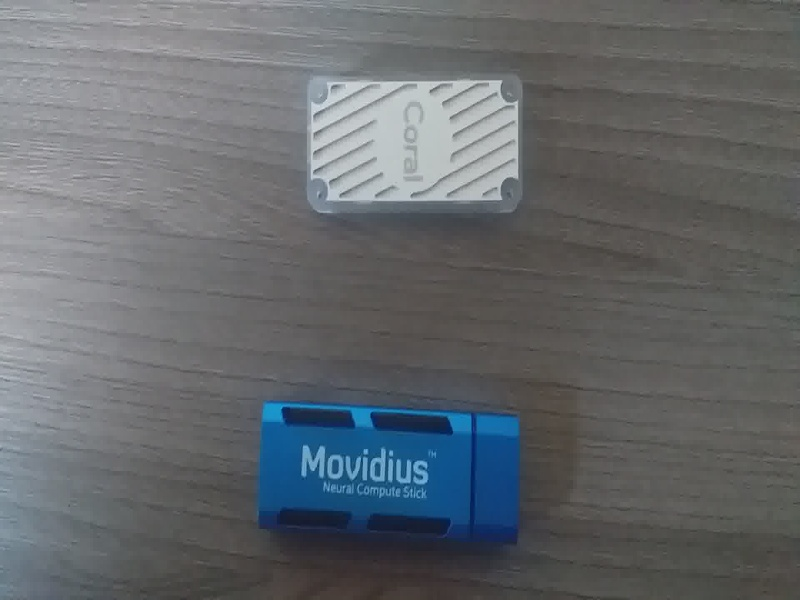coral: (299, 71, 538, 229)
movidius: (247, 391, 530, 555)
